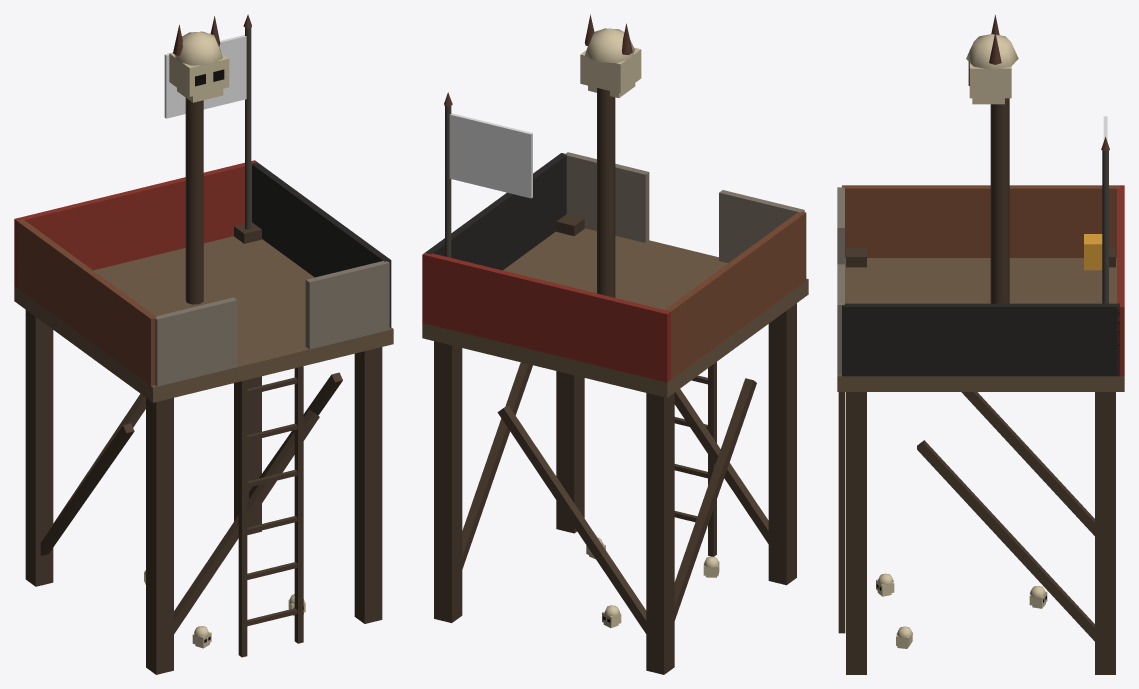
3 renders of one model, left to right at view 1: azimuth 30°, elevation 25°; view 2: azimuth 150°, elevation 25°; view 3: azimuth 270°, elevation 25°, orthographic. The views are drawn at different scales.
Visible parts, largest first — view 1: raider_building_claim_post; view 2: raider_building_claim_post; view 3: raider_building_claim_post.
Boxes of the visible parts, box(x1,y1,x2,y2) form: raider_building_claim_post: box(14, 14, 393, 674); raider_building_claim_post: box(422, 14, 808, 674); raider_building_claim_post: box(837, 15, 1124, 674).
Size of the model in its own units: 3 by 6.85 by 3.
